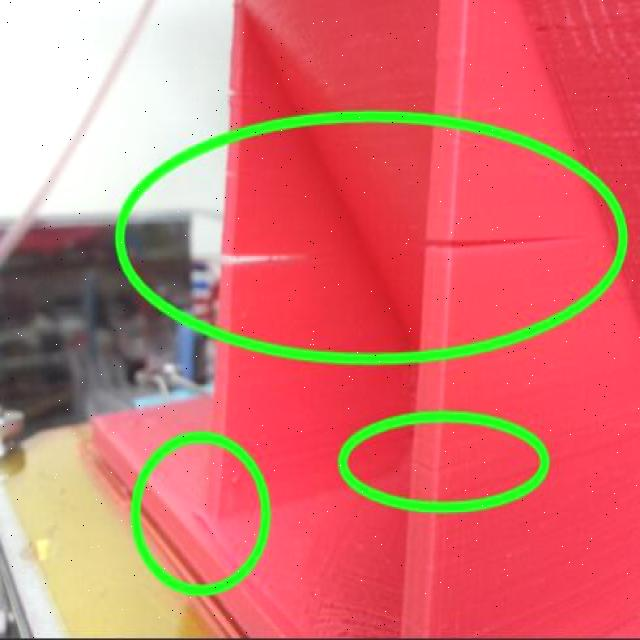cracking: (196, 203, 556, 301), (392, 455, 474, 482)
